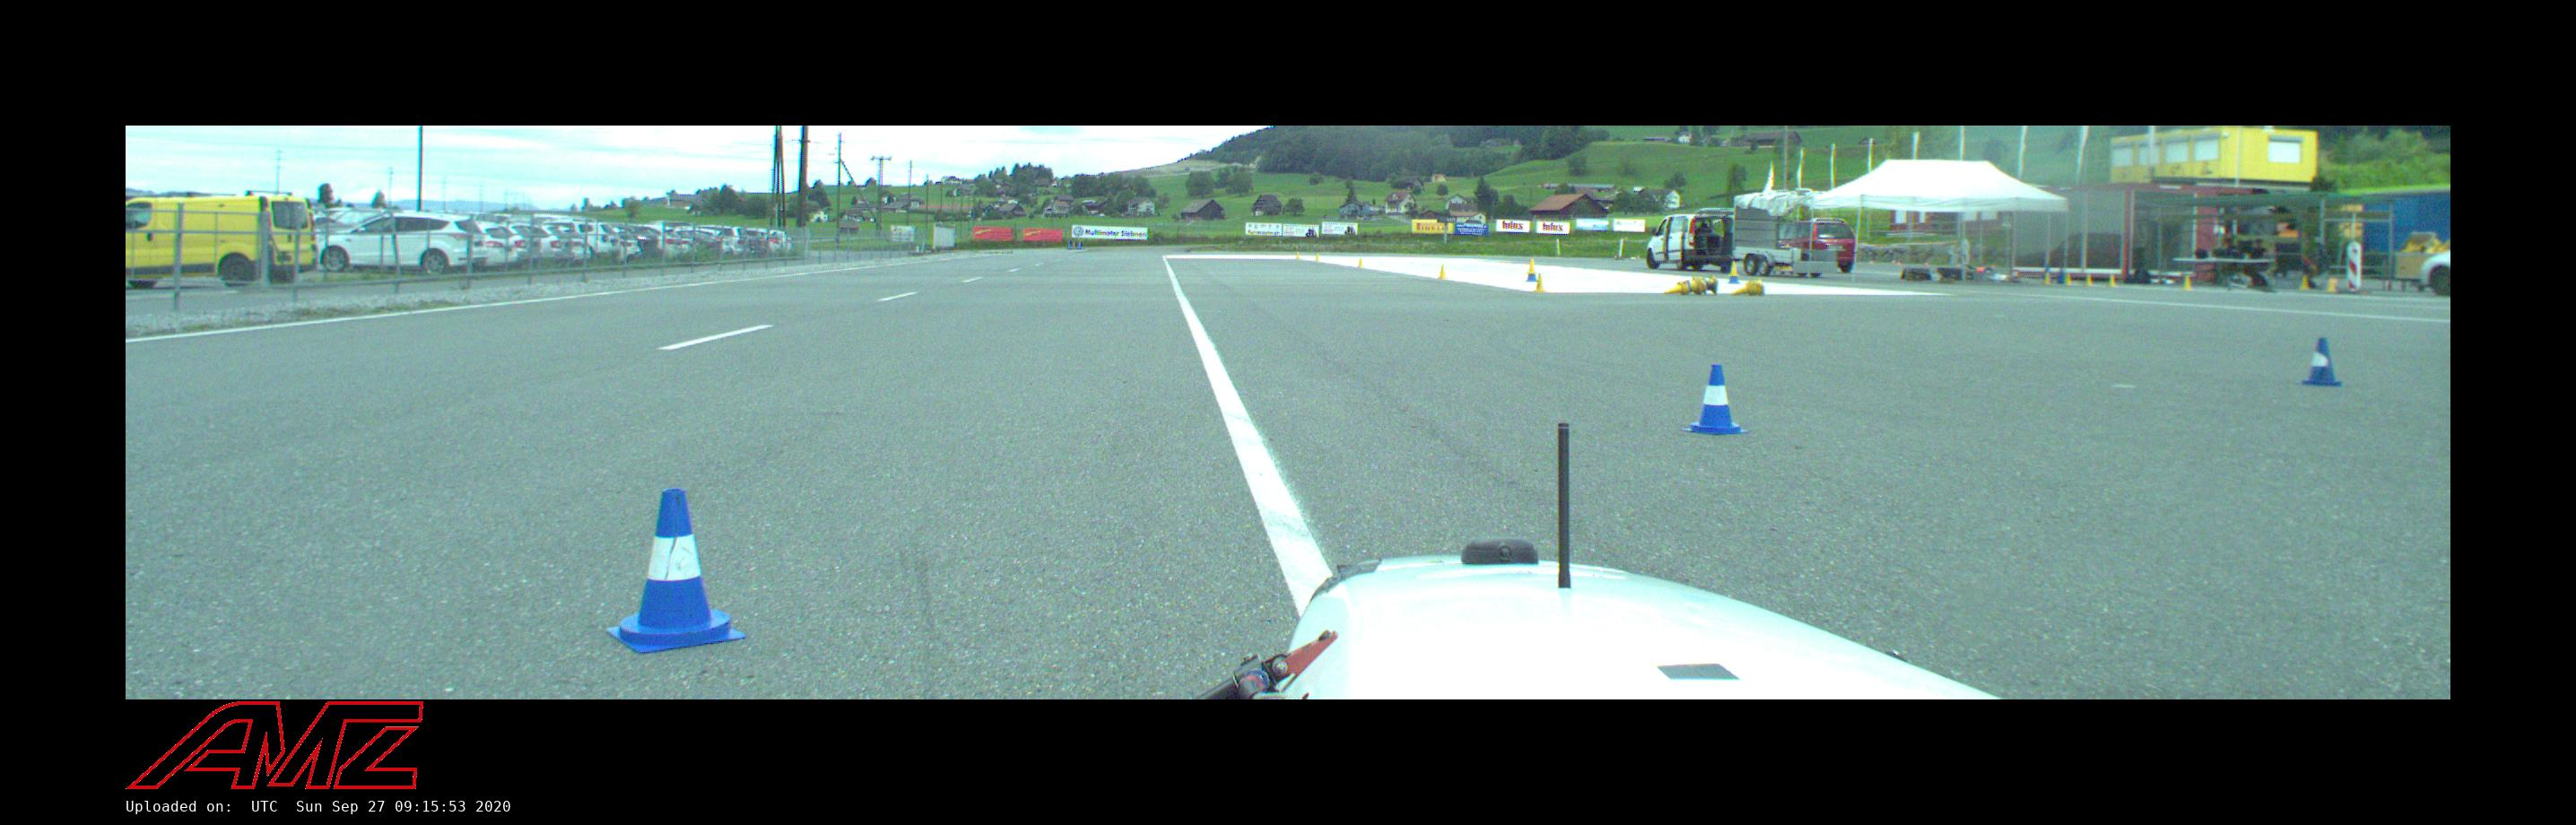blue_cone: (606, 490, 745, 654), (1681, 365, 1747, 435), (2302, 338, 2342, 386)
